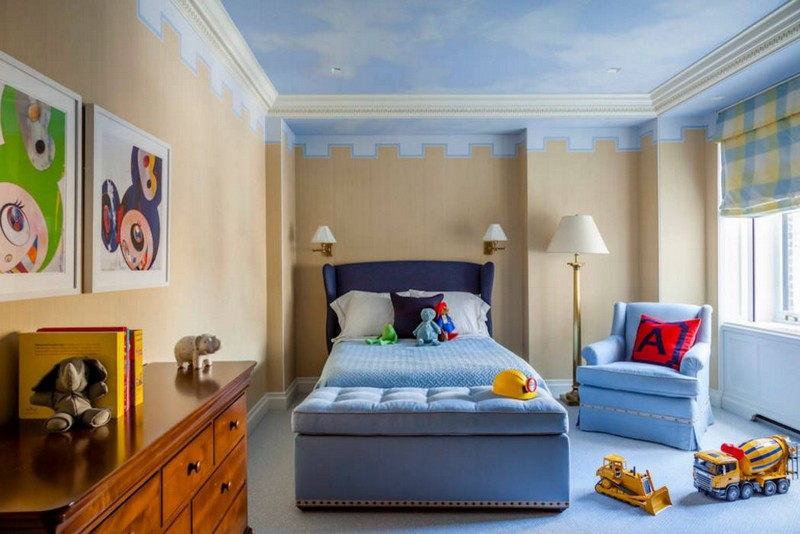bed: (294, 258, 575, 518)
lamp: (545, 213, 609, 407), (308, 223, 341, 258), (480, 218, 507, 258)
sofa: (579, 300, 714, 451)
table: (1, 358, 254, 532)
